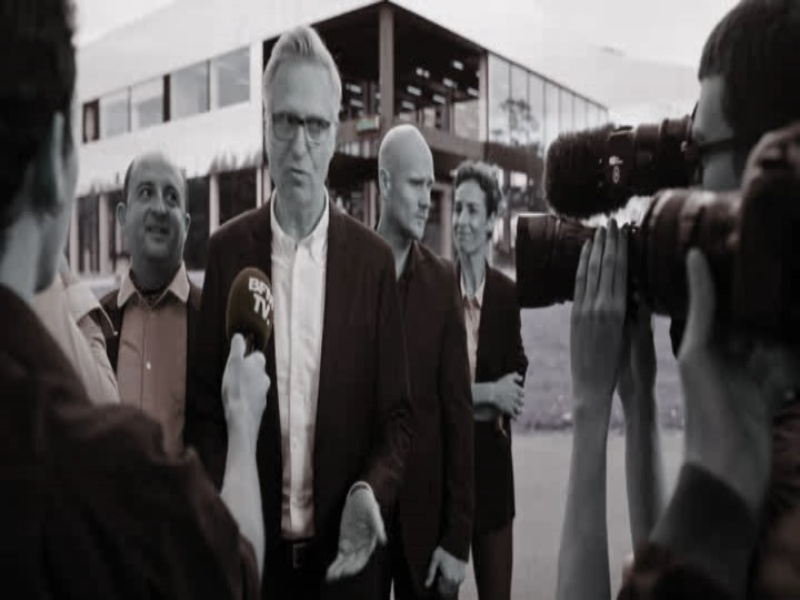TsisyArotava: (251, 36, 354, 219), (110, 147, 204, 273), (370, 124, 446, 246)
